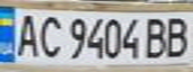0: (103, 16, 124, 60)
4: (121, 15, 145, 60), (84, 15, 106, 60)
9: (63, 15, 87, 60)
A: (12, 10, 42, 58)
B: (142, 15, 172, 60), (163, 14, 193, 58)
C: (36, 11, 66, 58)
